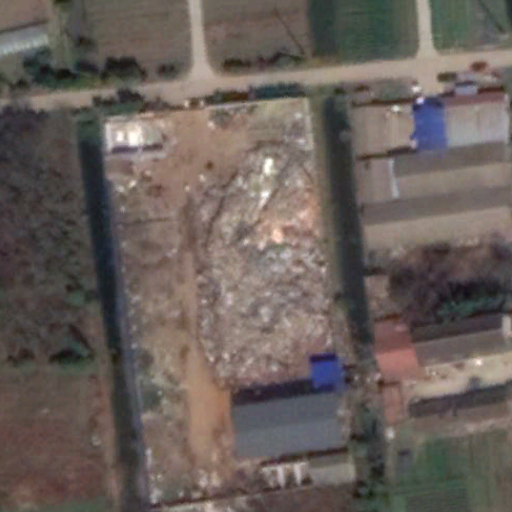msw: (187, 145, 328, 393)
